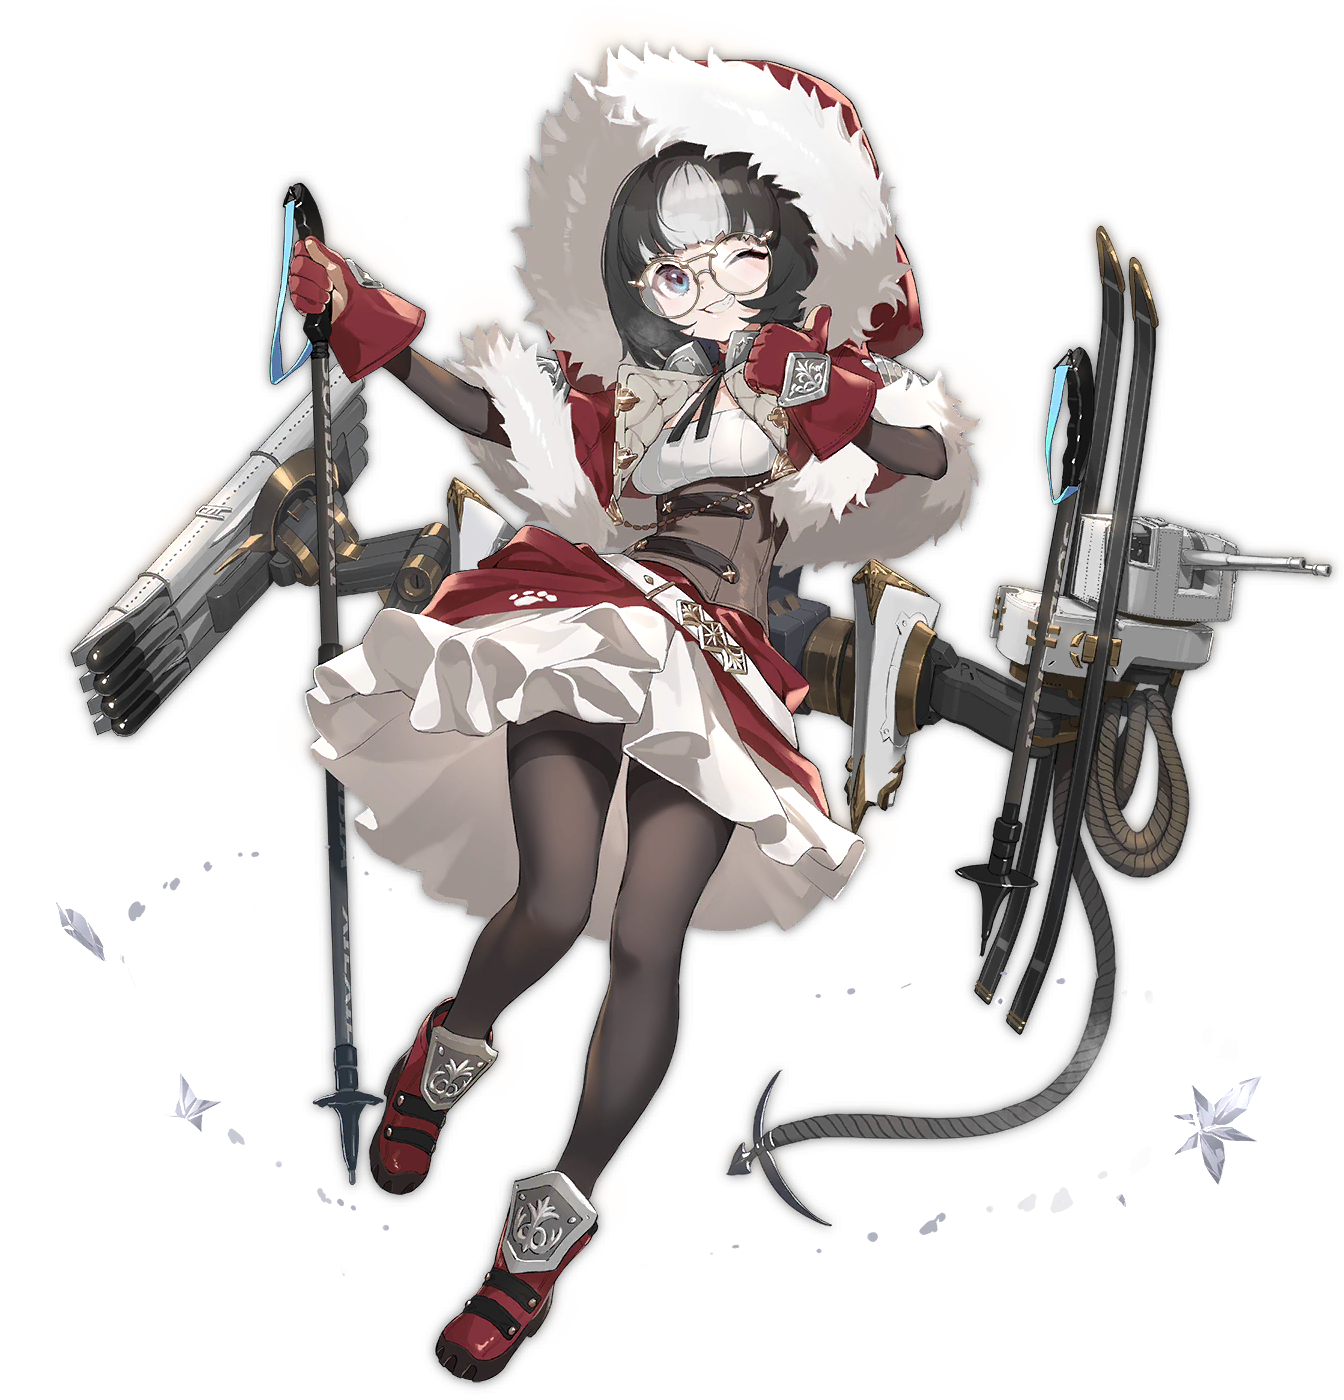person: (295, 58, 820, 1088)
